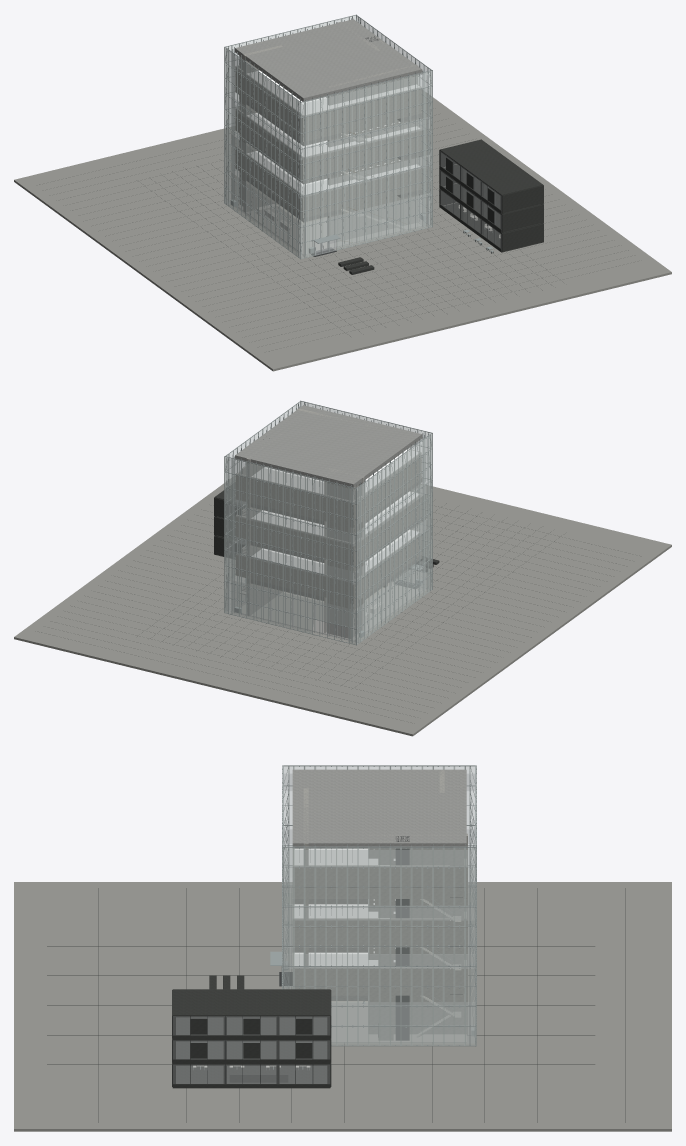
3 views of the same model, one above another, from view 1: azimuth 30°, elevation 25°; view 2: azimuth 150°, elevation 25°; view 3: azimuth 270°, elevation 25° (orthographic). The views are drawn at different scales.
Parts seen in each view (by area): view 1: 25_Complete_Architecture; view 2: 25_Complete_Architecture; view 3: 25_Complete_Architecture.
Boxes of the visible parts, x1,y1,x2,y2 form: 25_Complete_Architecture: [14, 14, 671, 371]; 25_Complete_Architecture: [14, 400, 671, 736]; 25_Complete_Architecture: [14, 765, 671, 1131].
Size of the model in its own units: 80 by 39.74 by 90.
Materials: 15 (3 with a texture image).
